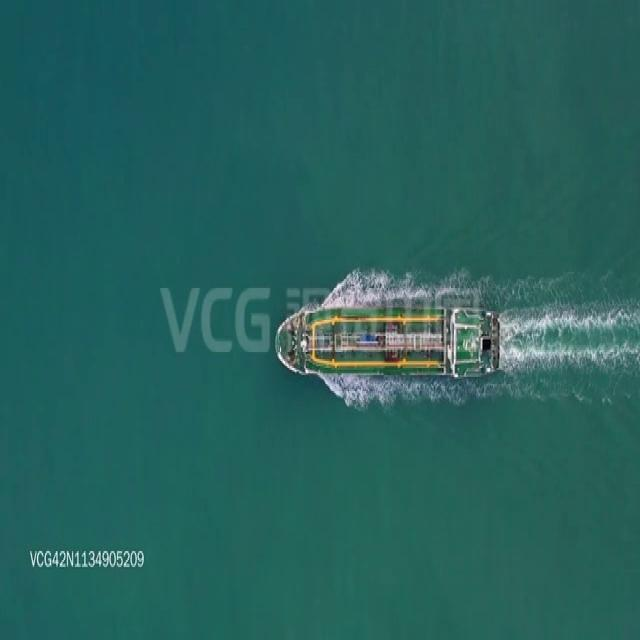houseboat: (266, 293, 500, 384)
